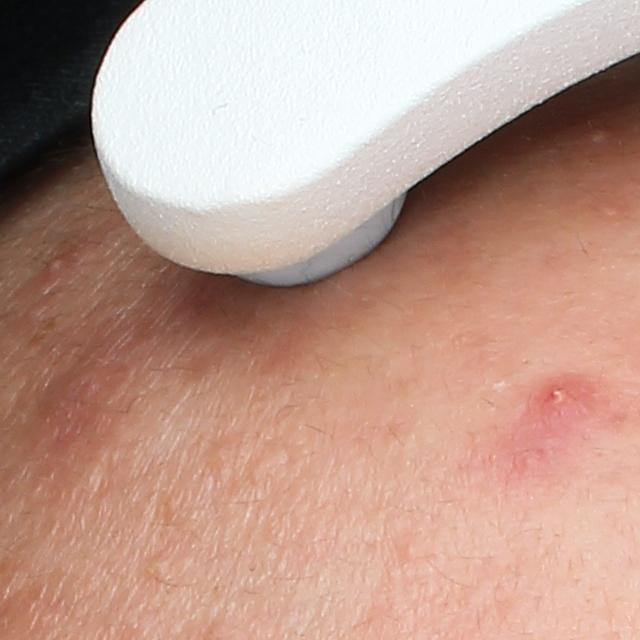comedo: (146, 556, 170, 580), (404, 540, 422, 559)
